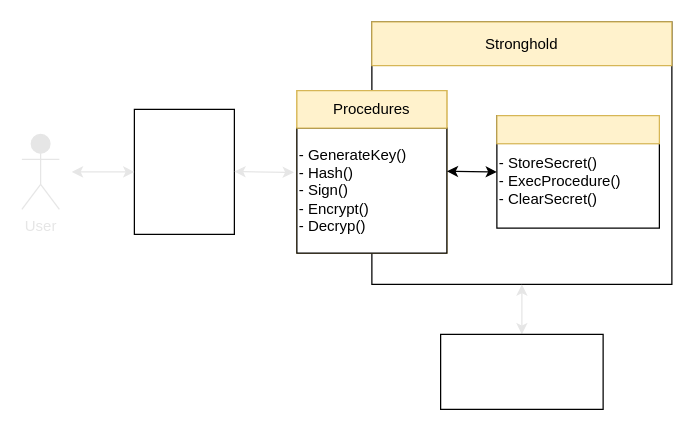
The diagram is 694 pixels wide and 431 high, and some of its shapes have lost their labels. The box of each missing label's shape, as (x1, y1, x2, y2) in pixels:
Encrypted Snapshot: permanent storage: (439, 333, 603, 409)
Software: (133, 108, 234, 234)
Vault: (496, 114, 659, 144)
